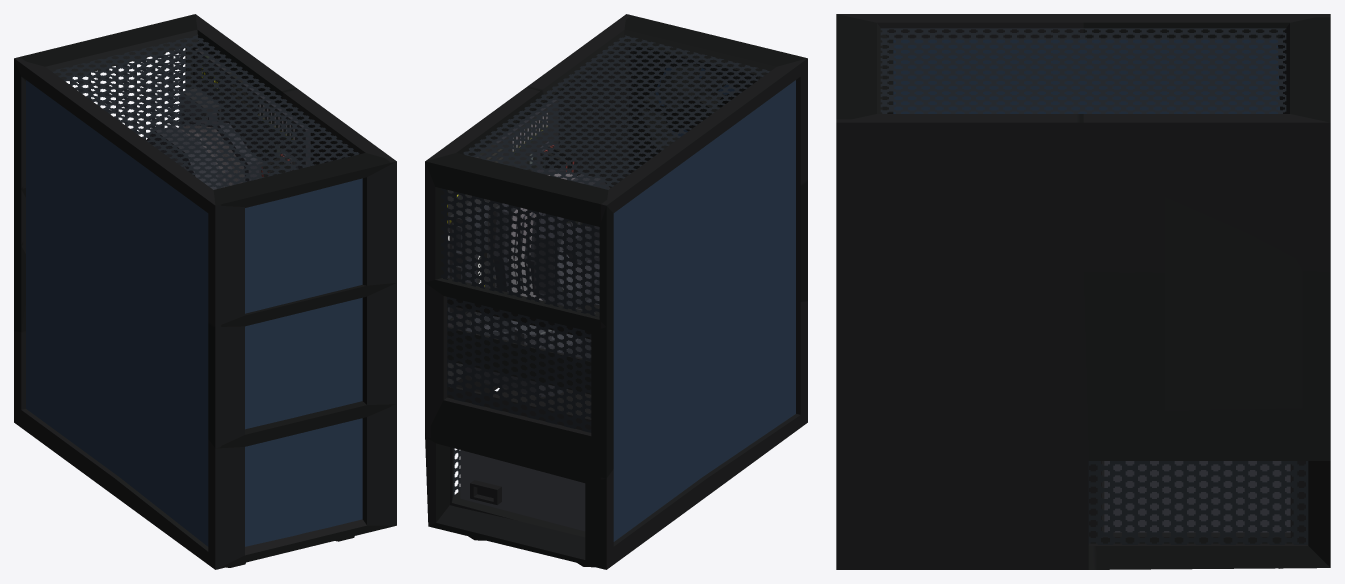
The picture shows the model from 3 angles, left to right: view 1: azimuth 30°, elevation 25°; view 2: azimuth 150°, elevation 25°; view 3: azimuth 270°, elevation 25°; orthographic projection. The views are drawn at different scales.
Visible parts, largest first — view 1: Vidro, Corpo.001, Grades, Corpo, Coller; view 2: Corpo.001, Vidro, Grades, Cube, Coller, Base.002, Corpo, Base.005; view 3: Corpo.001, Grades, Vidro, Cube.
Boxes of the visible parts, bbox=[...] form: Vidro: bbox=[26, 80, 362, 546]; Corpo.001: bbox=[14, 14, 396, 569]; Grades: bbox=[53, 35, 359, 188]; Corpo: bbox=[181, 48, 310, 175]; Coller: bbox=[146, 119, 260, 189]; Corpo.001: bbox=[425, 14, 807, 569]; Vidro: bbox=[613, 67, 795, 541]; Grades: bbox=[441, 35, 769, 495]; Cube: bbox=[460, 450, 585, 531]; Coller: bbox=[493, 167, 610, 308]; Base.002: bbox=[633, 43, 761, 170]; Corpo: bbox=[447, 100, 558, 384]; Base.005: bbox=[465, 291, 599, 396]; Corpo.001: bbox=[836, 14, 1330, 569]; Grades: bbox=[880, 28, 1308, 544]; Vidro: bbox=[893, 39, 1279, 113]; Cube: bbox=[1104, 461, 1290, 532].
Bounding box in the file's own units: 458 × 898 × 874.
